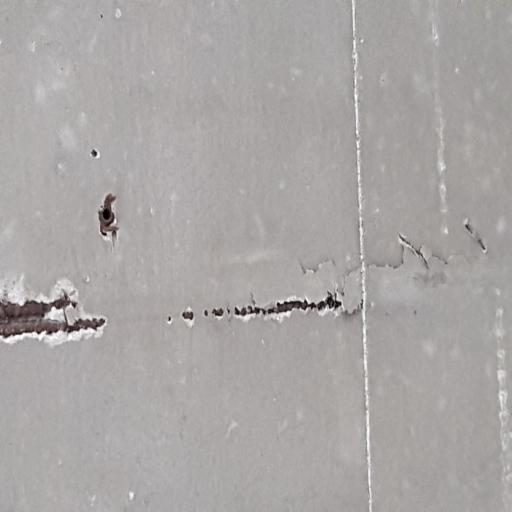exposed_rebar: (0, 293, 105, 338), (234, 292, 342, 318), (182, 311, 194, 320), (212, 308, 224, 316), (204, 309, 208, 316), (227, 308, 230, 315)
